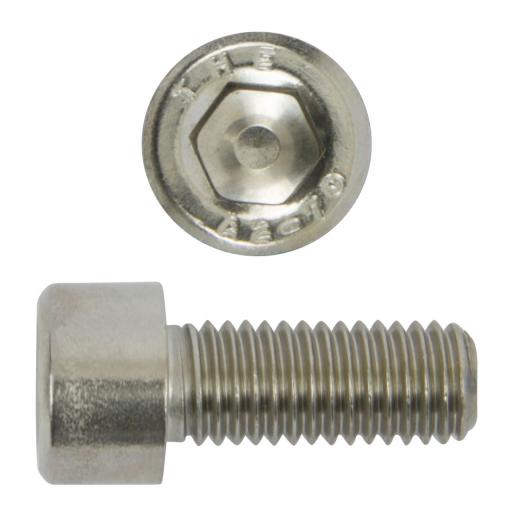Hex-Allen: (141, 30, 369, 256)
